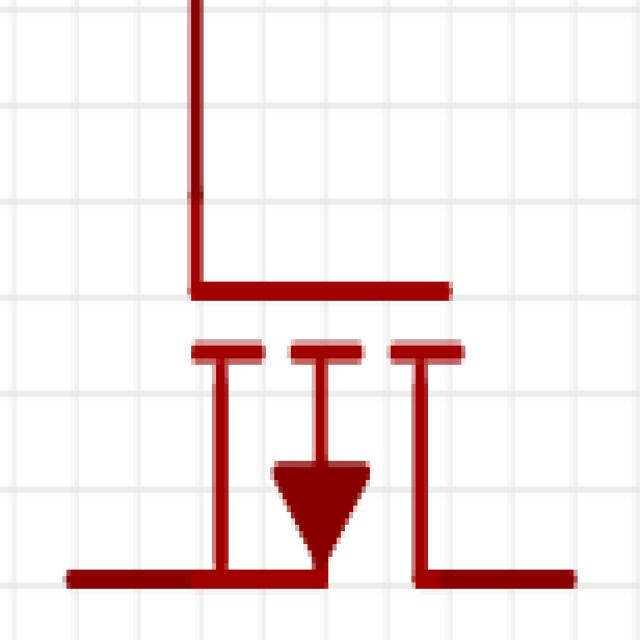pmos: (96, 41, 565, 640)
